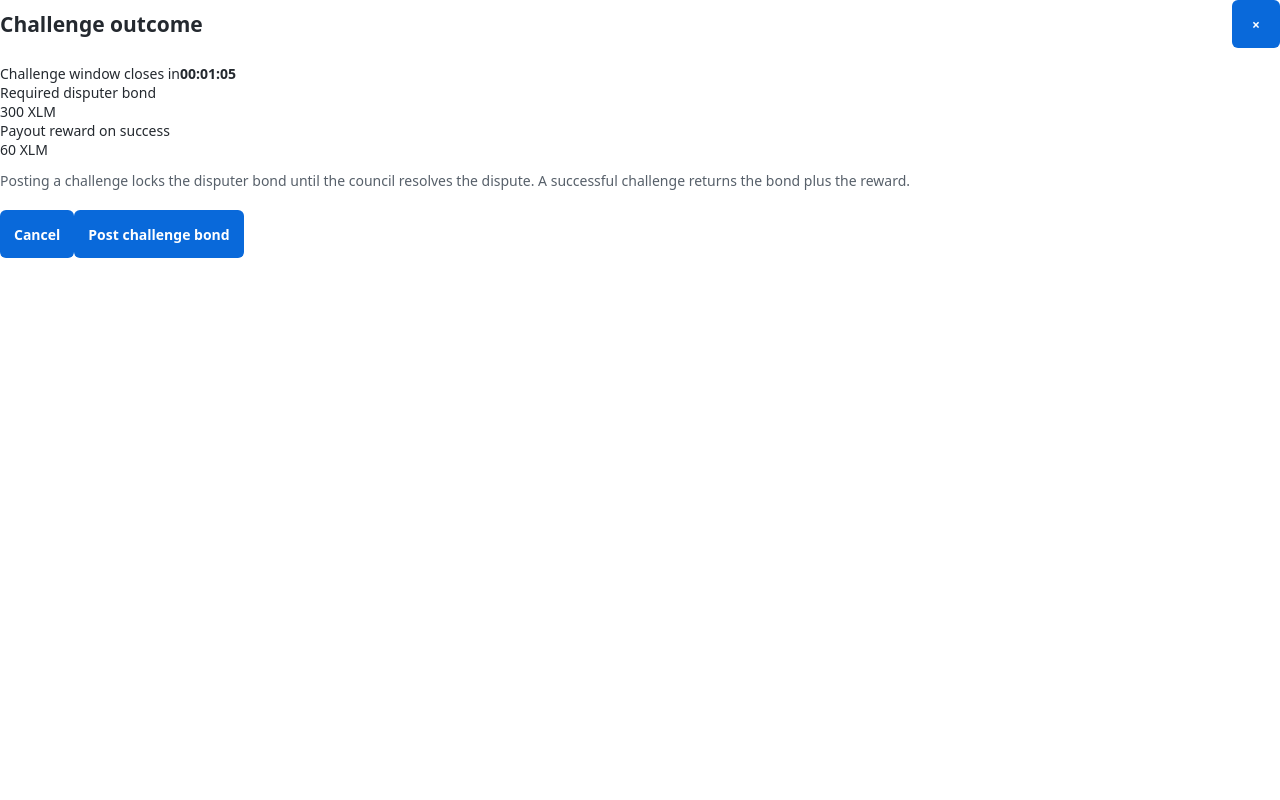
ChallengeOutcomeModal › updates optimistically and confirms the signed challenge
Click the button "Post challenge bond" at {"x": 159, "y": 234}, box [74,210,244,258]
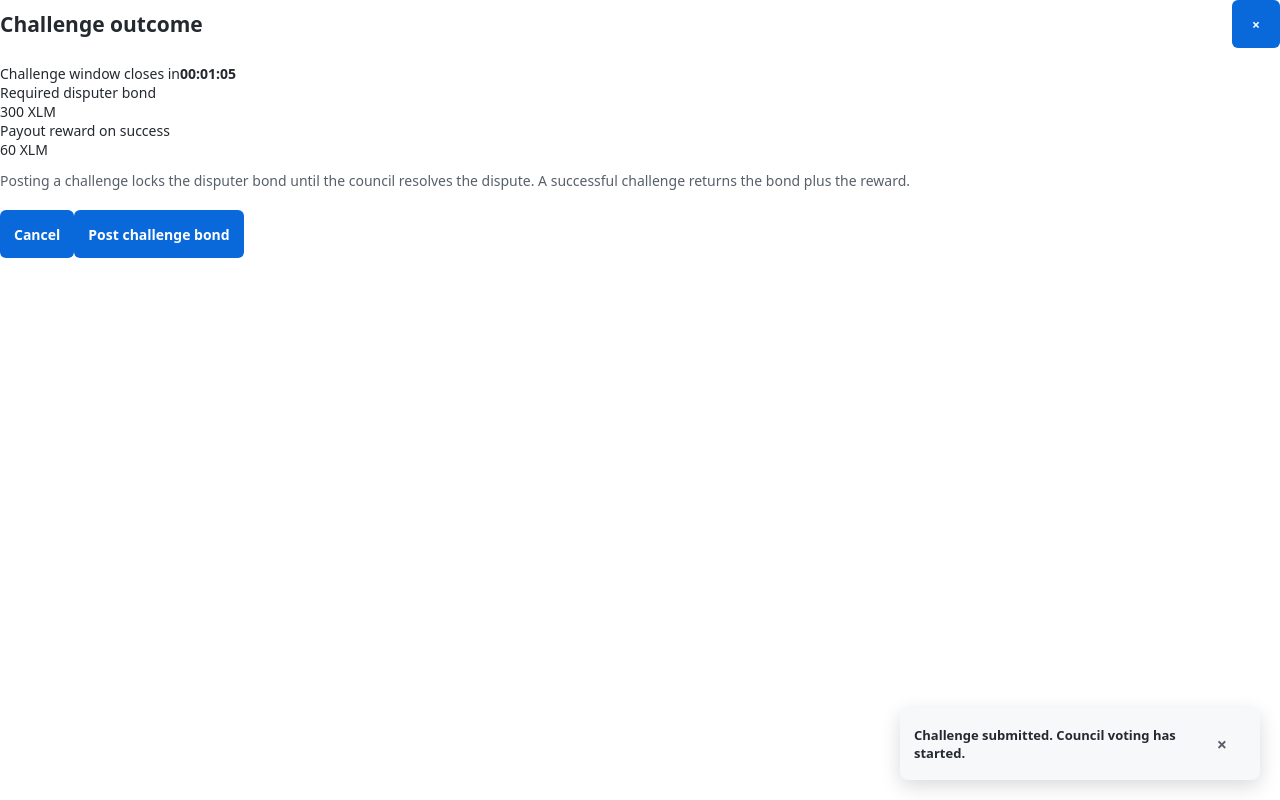
Result: the text "Challenge submitted. Council voting has started." is shown at [914,726,1186,762]
